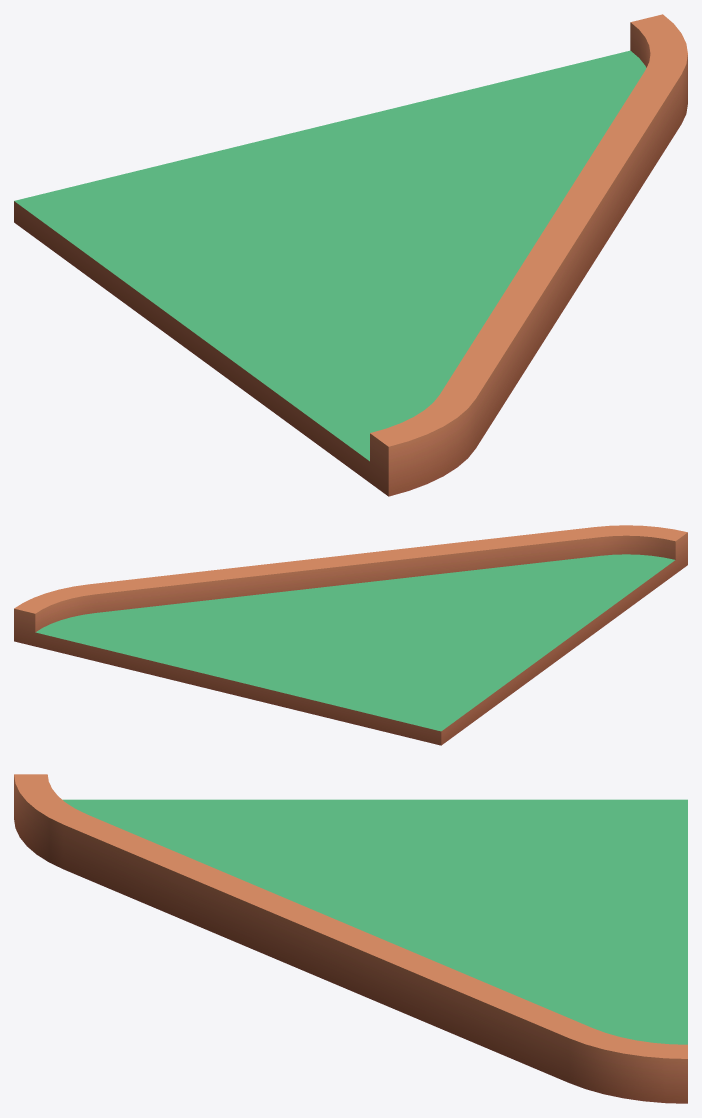
Rendered from skew-large-corner-open.glb.
3 views of the same model, one above another, from view 1: azimuth 30°, elevation 25°; view 2: azimuth 150°, elevation 25°; view 3: azimuth 270°, elevation 25° (orthographic). The views are drawn at different scales.
Parts seen in each view (by area): view 1: skew-large-corner-open; view 2: skew-large-corner-open; view 3: skew-large-corner-open.
Part boxes in pixels (x1=…): skew-large-corner-open: x1=14, y1=14, x2=687, y2=496; skew-large-corner-open: x1=14, y1=525, x2=687, y2=745; skew-large-corner-open: x1=14, y1=774, x2=687, y2=1103.
Size of the model in its own units: 2 by 0.1467 by 2.
1 material, 1 textured.
